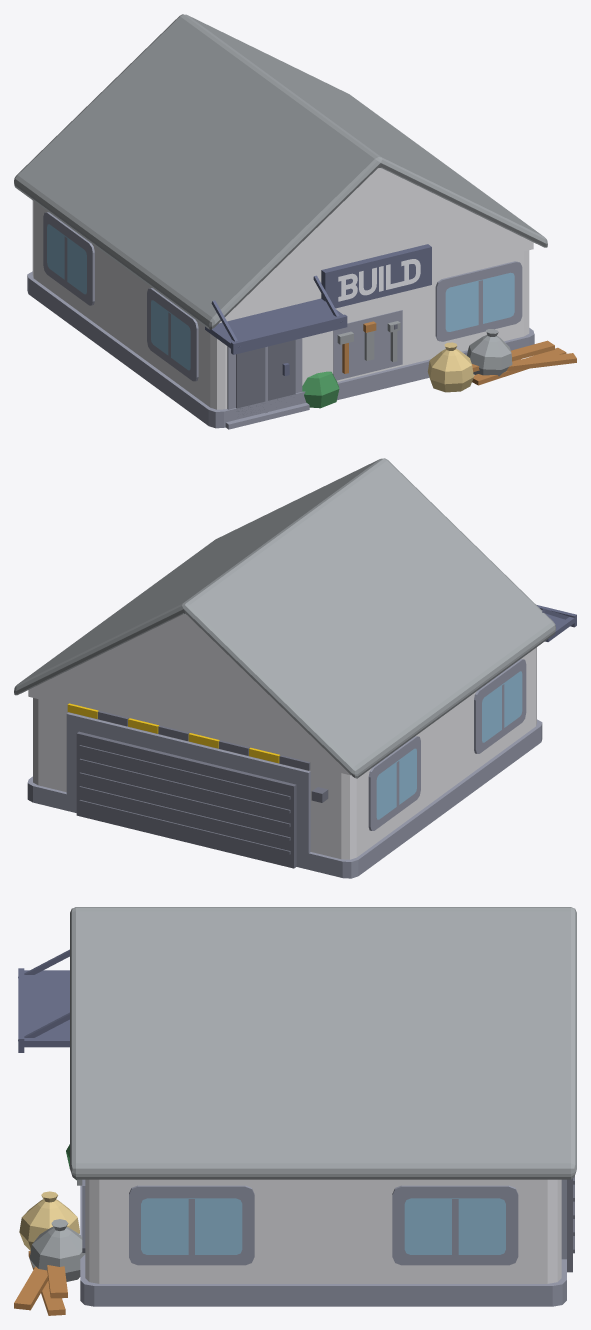
File: shop-construction-1x1-t1-tone-a.glb
3 renders of one model, top to bottom at view 1: azimuth 30°, elevation 25°; view 2: azimuth 150°, elevation 25°; view 3: azimuth 270°, elevation 25°, orthographic. The views are drawn at different scales.
Visible parts, largest first — view 1: shop-construction-1x1-t1-tone-a; view 2: shop-construction-1x1-t1-tone-a; view 3: shop-construction-1x1-t1-tone-a.
Boxes of the visible parts, x1=… form: shop-construction-1x1-t1-tone-a: x1=14, y1=14, x2=576, y2=429; shop-construction-1x1-t1-tone-a: x1=14, y1=458, x2=576, y2=878; shop-construction-1x1-t1-tone-a: x1=14, y1=907, x2=576, y2=1315.
Bounding box in the file's own units: 1 × 0.6545 × 1.11.
1 material, 1 textured.
